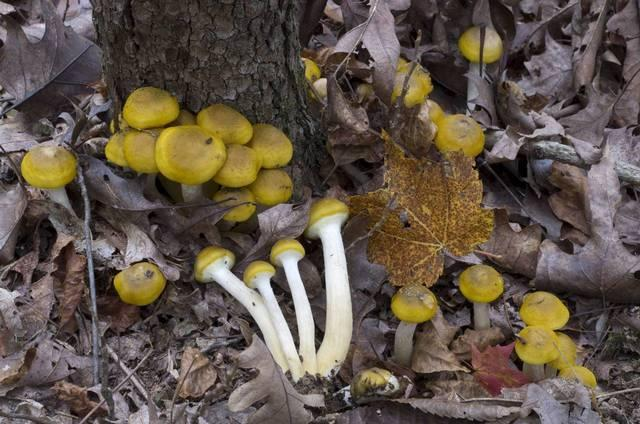Edible Mushroom: (193, 196, 354, 385), (104, 79, 299, 209), (513, 286, 577, 374), (15, 133, 85, 195), (108, 249, 175, 312), (388, 274, 445, 348), (425, 108, 487, 164), (455, 18, 505, 70), (458, 260, 506, 312)
